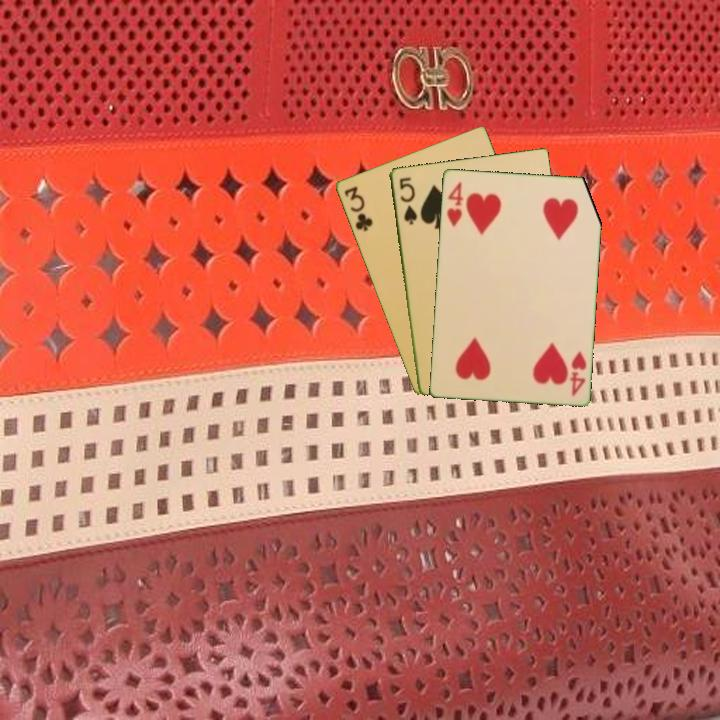3c: (340, 183, 375, 234)
4h: (443, 177, 466, 229), (566, 348, 589, 399)
5s: (395, 173, 420, 227)
